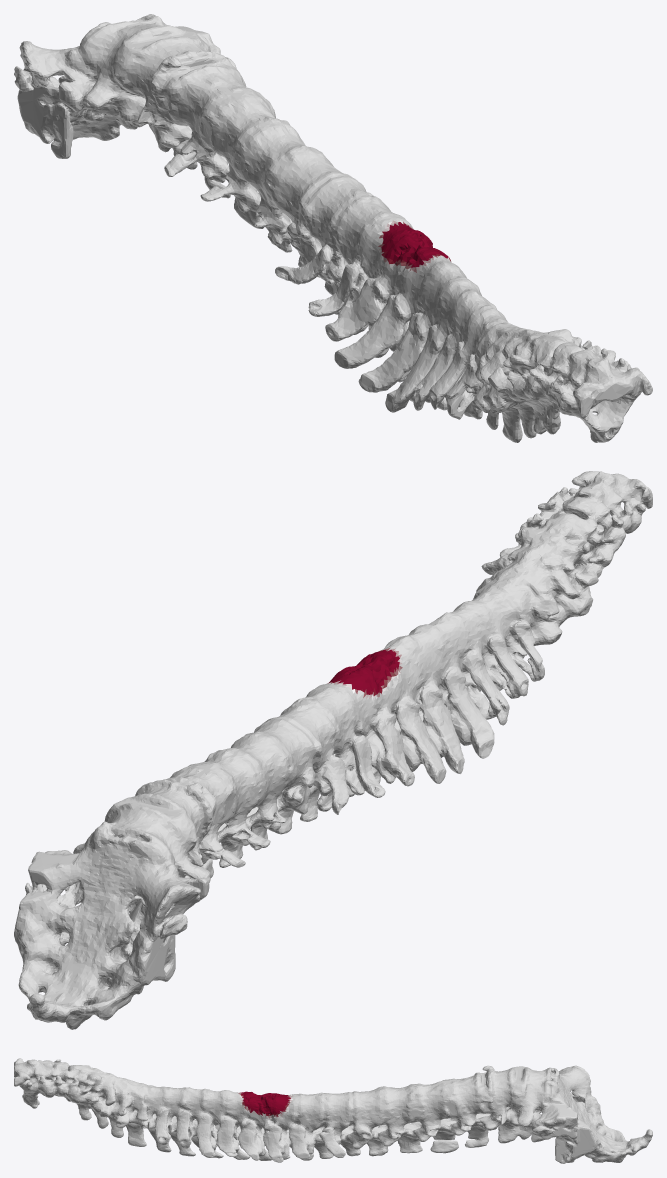
File: FracturePainting.obj
3 renders of one model, top to bottom at view 1: azimuth 30°, elevation 25°; view 2: azimuth 150°, elevation 25°; view 3: azimuth 270°, elevation 25°, orthographic. The views are drawn at different scales.
Visible parts, largest first — view 1: obj1; view 2: obj1; view 3: obj1.
Boxes of the visible parts, left/top/right/bottom form: obj1: left=14, top=14, right=652, bottom=442; obj1: left=14, top=471, right=652, bottom=1029; obj1: left=14, top=1058, right=652, bottom=1163.
Bounding box in the file's own units: 25.66 × 23.84 × 144.
